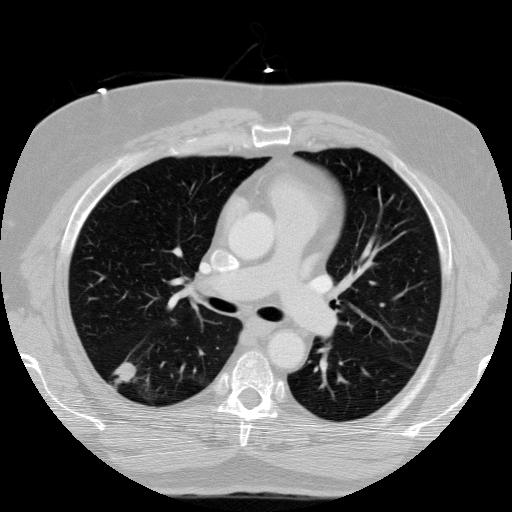nodule: (113, 360, 137, 384)
